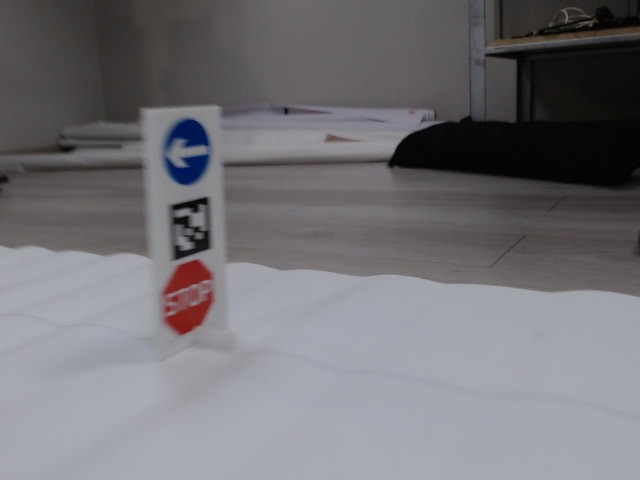Stop: (160, 263, 215, 329)
